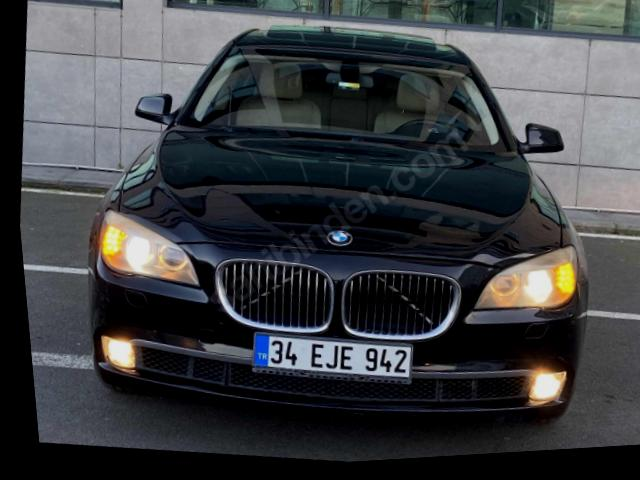plaka: (253, 333, 412, 382)
